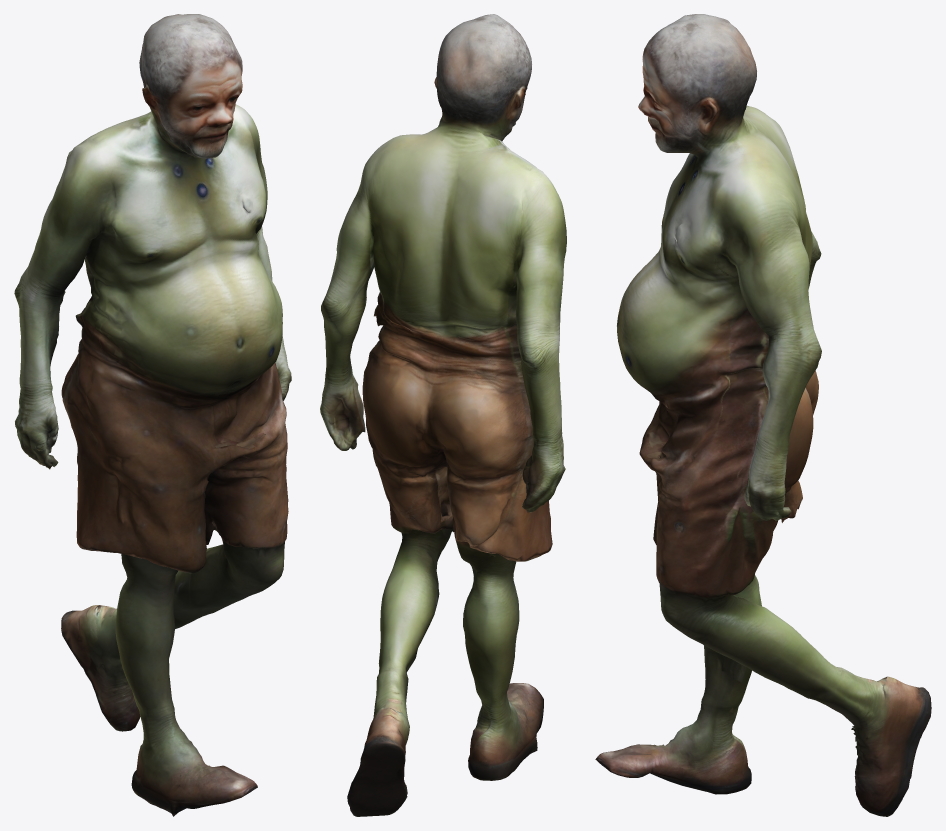
Rendered from Man_Walking_033101023_0331013137_texture.glb.
3 renders of one model, left to right at view 1: azimuth 30°, elevation 25°; view 2: azimuth 150°, elevation 25°; view 3: azimuth 270°, elevation 25°, orthographic. The views are drawn at different scales.
Size of the model in its own units: 0.6983 by 2 by 0.784.
Materials: 1 (1 with a texture image).
